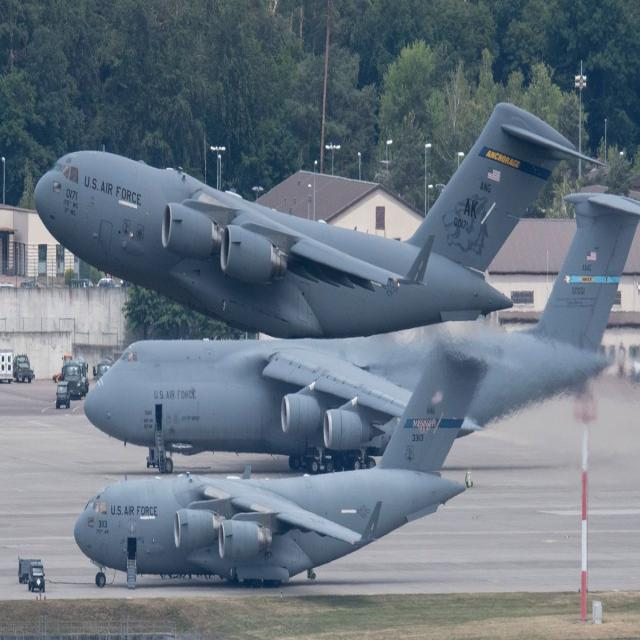MIL_Plane: (34, 121, 612, 321), (307, 186, 416, 470), (262, 0, 329, 205)
